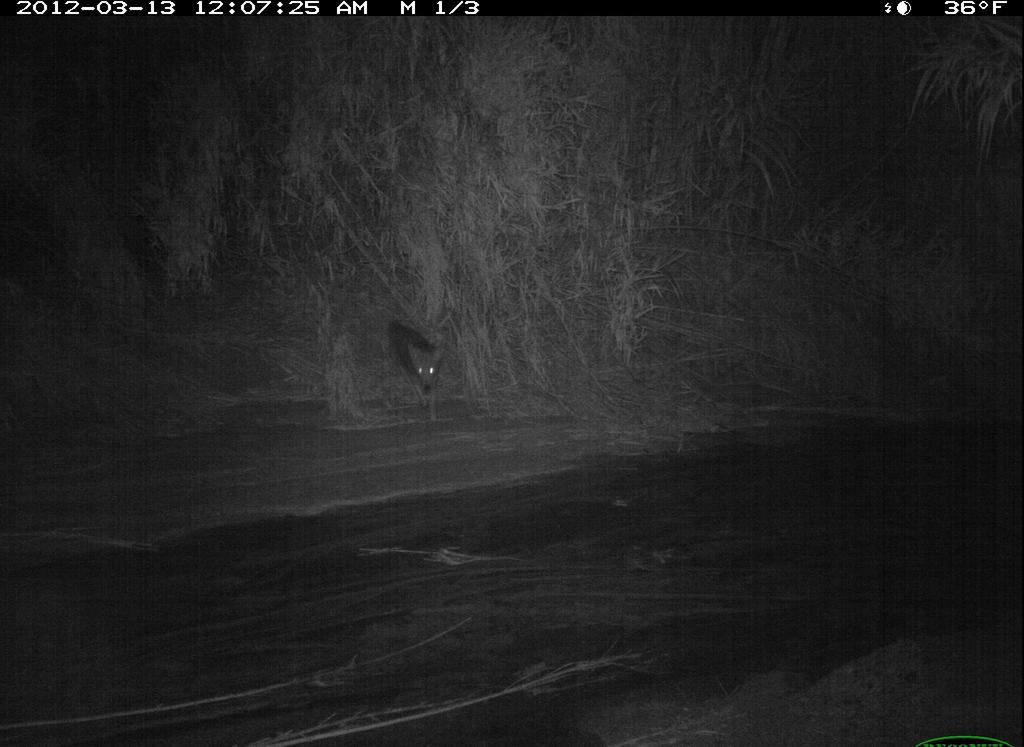coyote: (378, 308, 461, 427)
